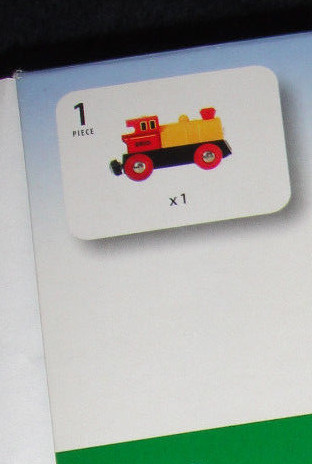brio: (105, 101, 237, 187)
